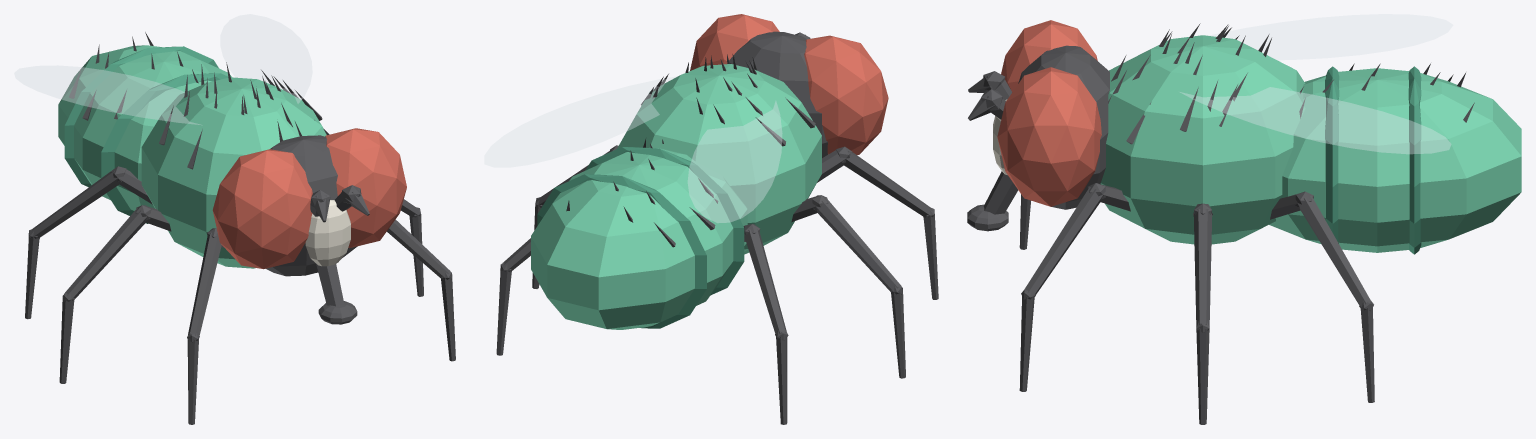
Rendered from mouche.glb.
3 renders of one model, left to right at view 1: azimuth 30°, elevation 25°; view 2: azimuth 150°, elevation 25°; view 3: azimuth 270°, elevation 25°, orthographic. The views are drawn at different scales.
Visible parts, largest first — view 1: Mouche_Body, Wing_L_flap, Wing_R_flap, Leg_L2_1, Leg_L3_1, Leg_L1_1, Leg_R1_1, Leg_L2_2, Leg_L1_2, Leg_R1_2, Leg_L3_2, Leg_R2_2 (+3 smaller); view 2: Mouche_Body, Wing_L_flap, Wing_R_flap, Leg_L2_1, Leg_L3_1, Leg_L1_1, Leg_L3_2, Leg_L2_2, Leg_R3_2, Leg_L1_2, Leg_L1_0, Leg_R3_1; view 3: Mouche_Body, Wing_R_flap, Wing_L_flap, Leg_R1_1, Leg_R2_1, Leg_R3_1, Leg_R2_2, Leg_R1_2, Leg_R3_2, Antenna_R_1.
Part boxes in pixels (x1,y1,x2,y2): Mouche_Body: (58,32,406,324); Wing_L_flap: (14,65,200,124); Wing_R_flap: (220,14,312,103); Leg_L2_1: (64,205,151,299); Leg_L3_1: (31,166,126,238); Leg_L1_1: (188,228,221,337); Leg_R1_1: (387,219,449,278); Leg_L2_2: (59,293,74,383); Leg_L1_2: (187,332,199,424); Leg_R1_2: (441,270,455,361); Leg_L3_2: (25,229,39,319); Leg_R2_2: (409,207,423,296); Mouche_Body: (531,14,888,329); Wing_L_flap: (688,101,782,222); Wing_R_flap: (484,76,676,167); Leg_L2_1: (812,195,901,291); Leg_L3_1: (744,224,786,335); Leg_L1_1: (836,146,932,217); Leg_L3_2: (775,330,788,424); Leg_L2_2: (890,285,905,378); Leg_R3_2: (496,262,511,355); Leg_L1_2: (923,208,938,299); Leg_L1_0: (817,150,845,182); Leg_R3_1: (503,238,530,271); Mouche_Body: (967,20,1521,254); Wing_R_flap: (1180,87,1451,153); Wing_L_flap: (1209,14,1452,59); Leg_R1_1: (1023,183,1105,296); Leg_R2_1: (1193,203,1212,326); Leg_R3_1: (1295,191,1371,306); Leg_R2_2: (1196,321,1209,424); Leg_R1_2: (1019,289,1035,391); Leg_R3_2: (1359,300,1374,402); Antenna_R_1: (968,89,1002,120).
Size of the model in its own units: 1 by 0.6941 by 1.18.
